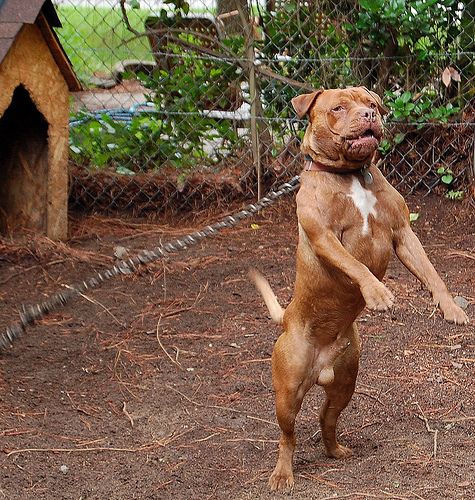am_pit_bull_terrier: (247, 85, 469, 492)
